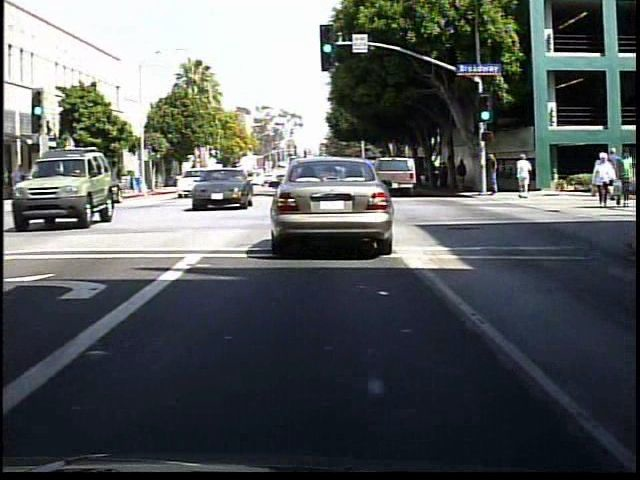person: (587, 154, 616, 210), (603, 145, 628, 207), (613, 146, 631, 211), (514, 152, 536, 202), (483, 150, 503, 204), (458, 159, 474, 193), (442, 160, 455, 193)
